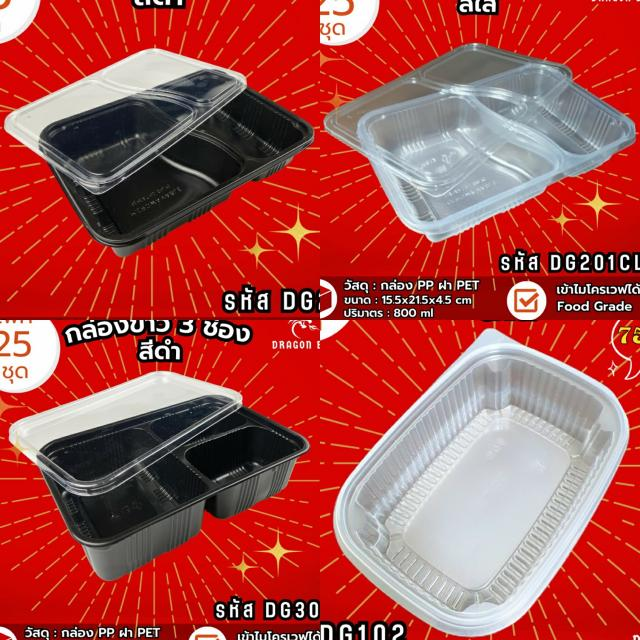Single-Use-Plastic: (334, 329, 629, 636), (6, 49, 314, 255), (10, 371, 309, 580), (324, 44, 635, 241), (5, 49, 246, 195)
